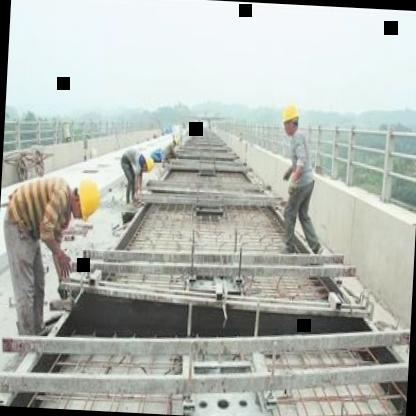helmet: (72, 171, 104, 226), (279, 98, 302, 138), (142, 153, 154, 175)
